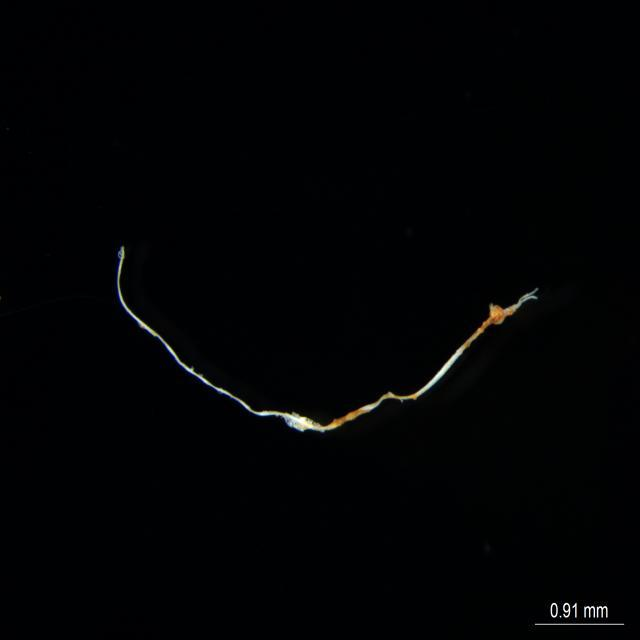fibers: (102, 246, 539, 454)
